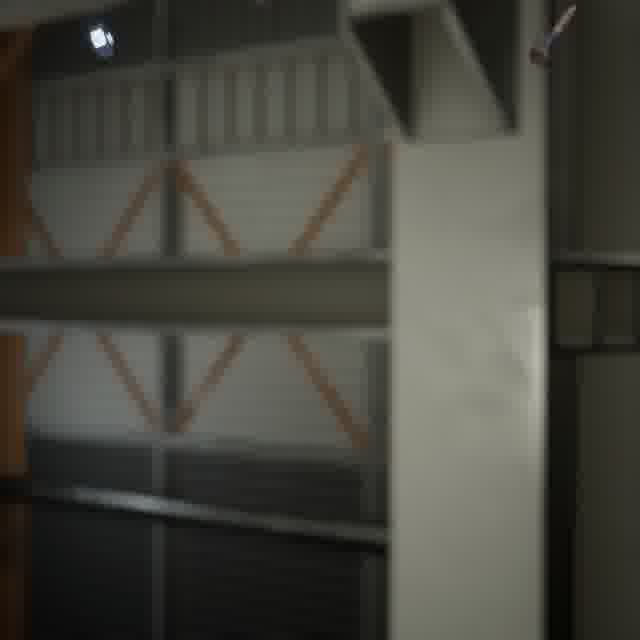bolt: (524, 1, 581, 70)
nut: (85, 19, 120, 63)
